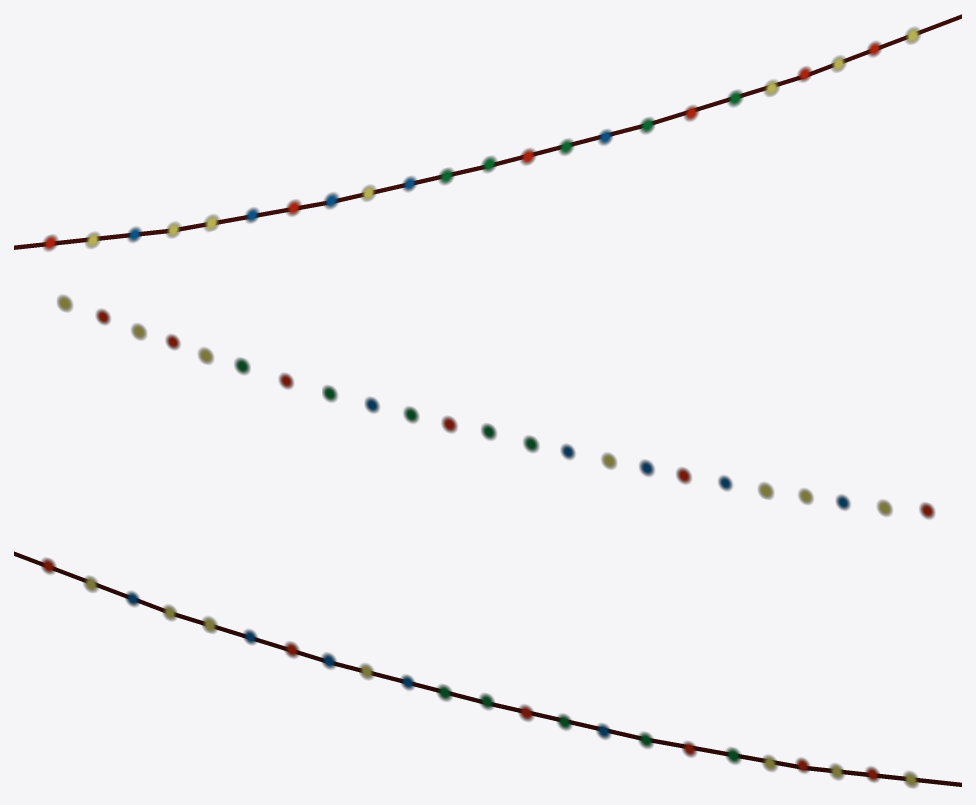
The model's file is pm-lights-02.glb.
The picture shows the model from 3 angles, top to bottom: view 1: azimuth 30°, elevation 25°; view 2: azimuth 150°, elevation 25°; view 3: azimuth 330°, elevation 25°; orthographic projection.
Visible parts, largest first — view 1: Lights02; view 2: Lights02; view 3: Lights02.
Part boxes in pixels (x1,y1,x2,y2): Lights02: (14,14,961,251); Lights02: (57,295,934,519); Lights02: (14,551,961,788).
Size of the model in its own units: 10.84 by 0.5227 by 0.0357.
Materials: 1 (1 with a texture image).
